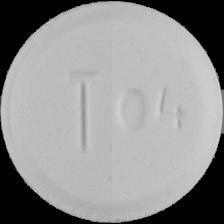63187-404: (0, 0, 224, 224)
